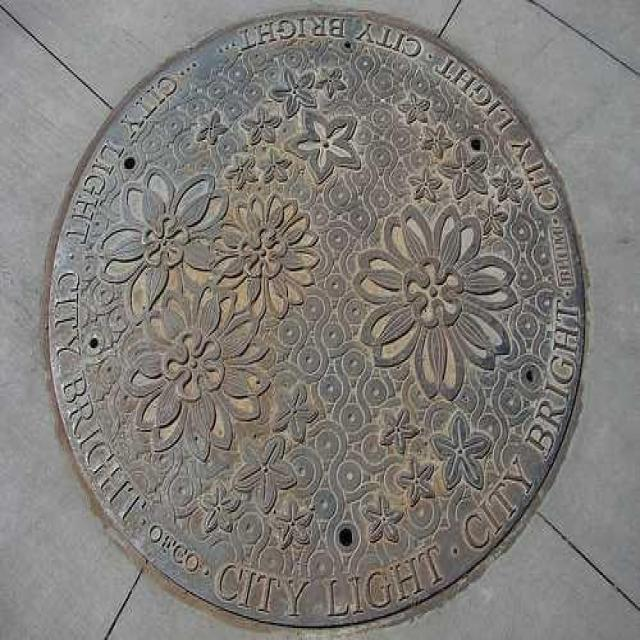manhole: (46, 13, 585, 627)
